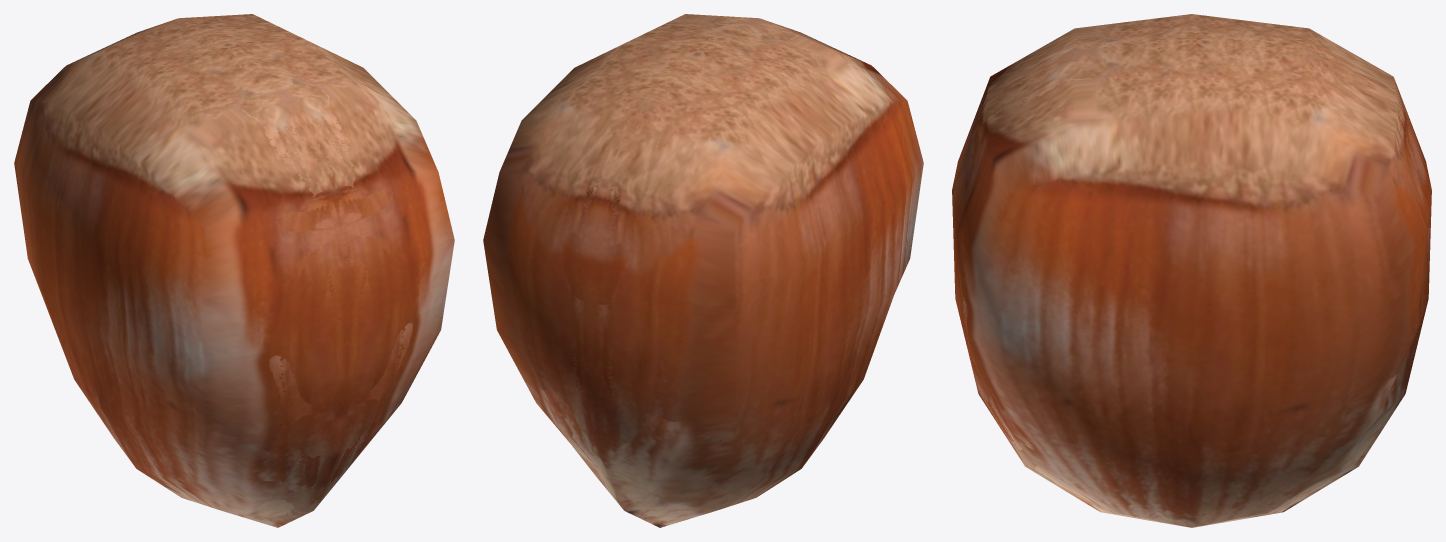
Rendered from nut.fbx.
The picture shows the model from 3 angles, left to right: view 1: azimuth 30°, elevation 25°; view 2: azimuth 150°, elevation 25°; view 3: azimuth 270°, elevation 25°; orthographic projection. The views are drawn at different scales.
Parts seen in each view (by area): view 1: Cube; view 2: Cube; view 3: Cube.
Part boxes in pixels (x1=…): Cube: x1=14, y1=14, x2=454, y2=527; Cube: x1=483, y1=14, x2=923, y2=527; Cube: x1=952, y1=14, x2=1431, y2=527.
Bounding box in the file's own units: 149 × 218 × 195.
Materials: 1 (1 with a texture image).
